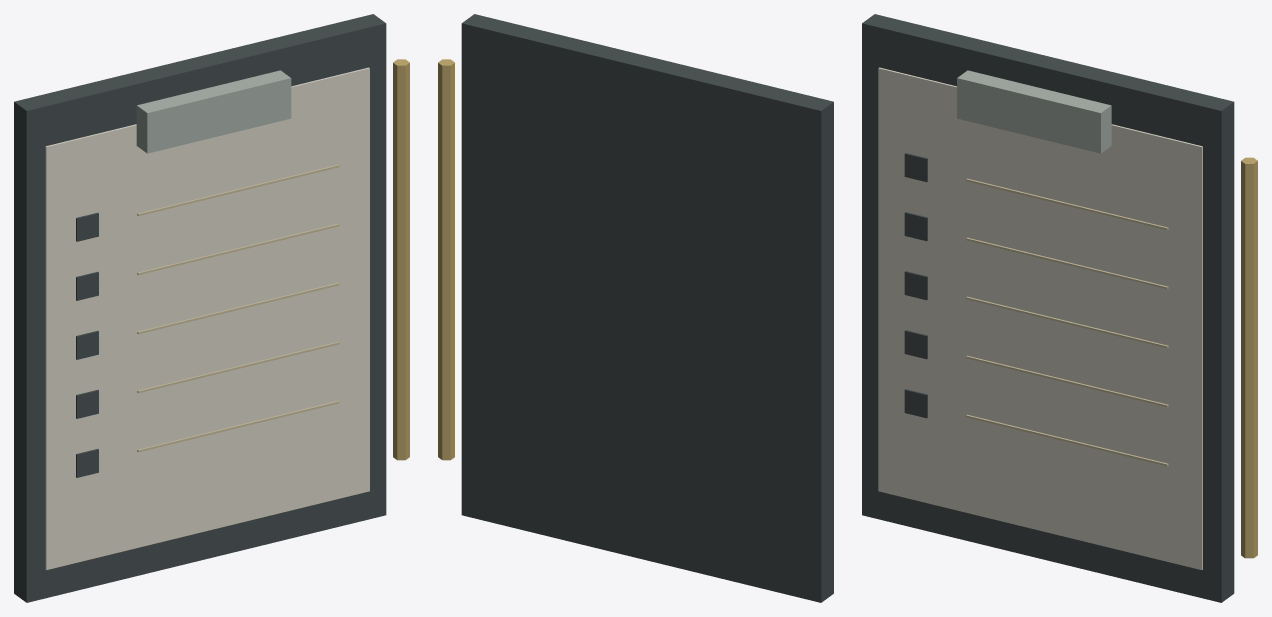
File: blender_clipboards_2.glb
3 renders of one model, left to right at view 1: azimuth 30°, elevation 25°; view 2: azimuth 150°, elevation 25°; view 3: azimuth 330°, elevation 25°, orthographic.
Parts seen in each view (by area): view 1: blender_clipboards_2; view 2: blender_clipboards_2; view 3: blender_clipboards_2.
Boxes of the visible parts, bbox=[...] form: blender_clipboards_2: bbox=[14, 14, 409, 602]; blender_clipboards_2: bbox=[438, 14, 833, 602]; blender_clipboards_2: bbox=[862, 14, 1257, 602].
Size of the model in its own units: 0.2102 by 0.255 by 0.024.
1 material, 1 textured.
